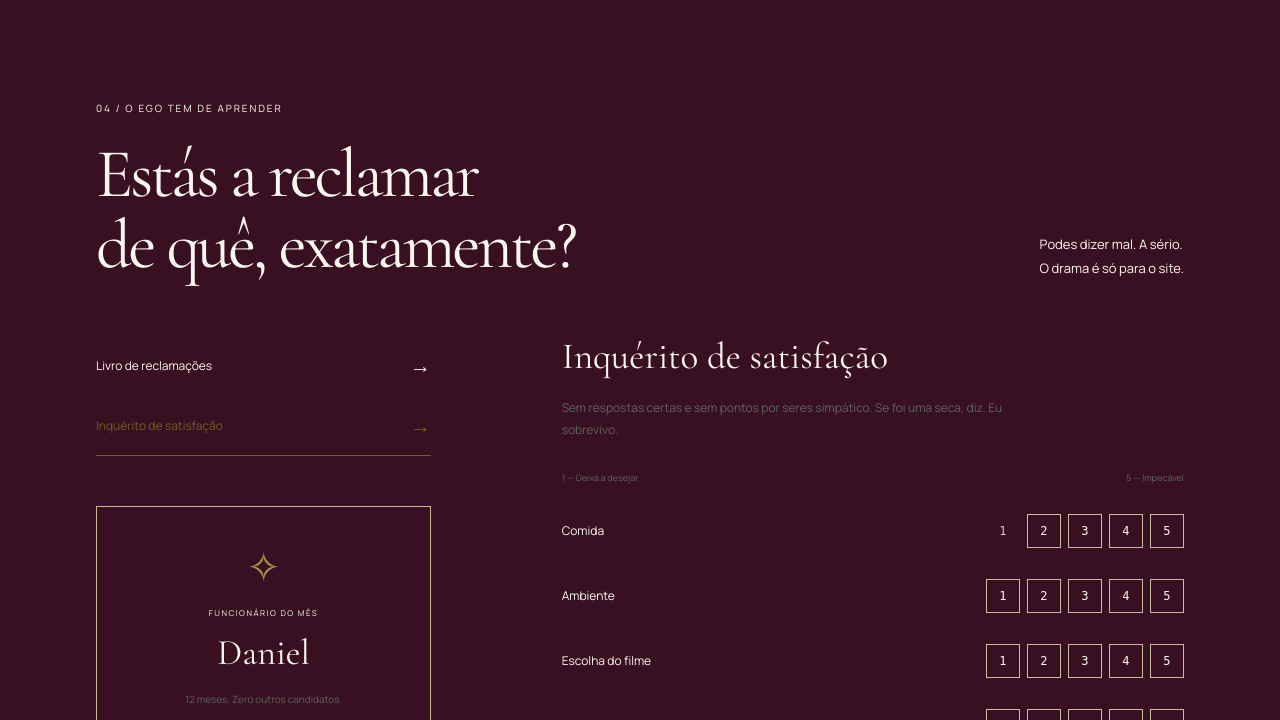
reservas e secretaria › aceita avaliações honestas de 1 em todas as categorias
Earlier steps of the test are not shown.
Click the radio button labelled "1" in the row of "Ambiente" at (1003, 596), box [986,579,1020,613]
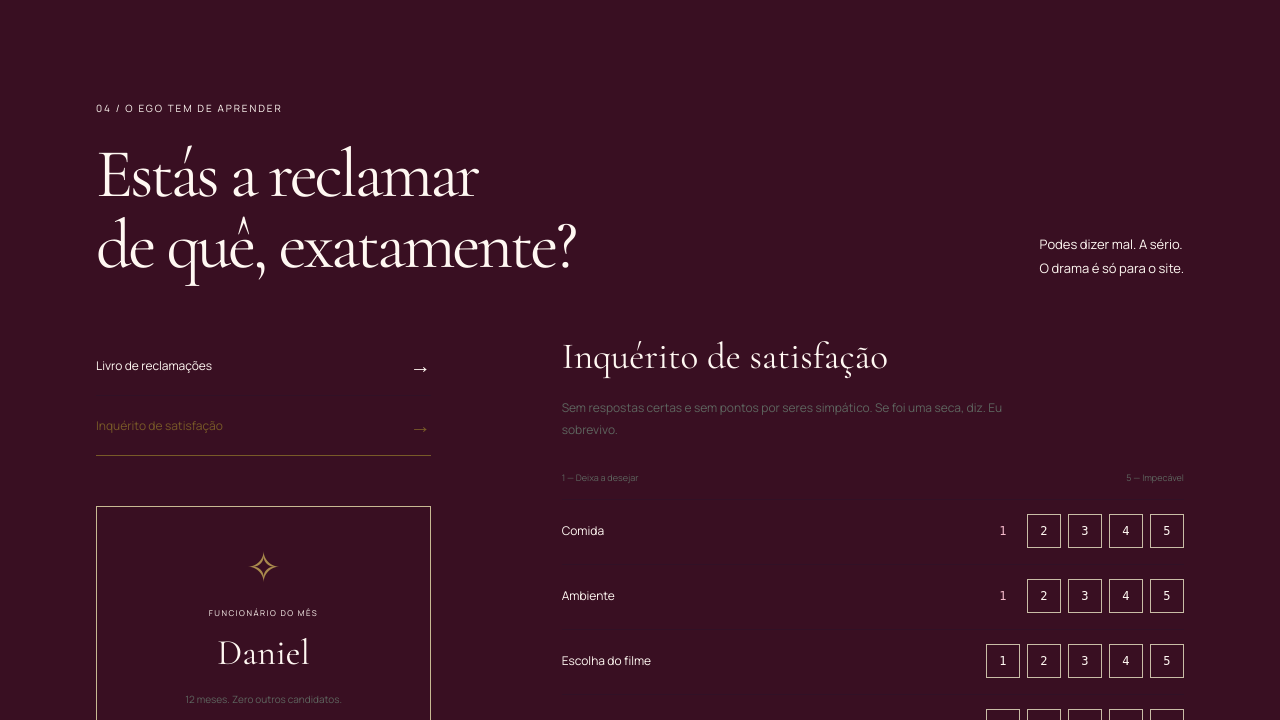
Click the radio button labelled "1" in the row of "Escolha do filme" at (1003, 661), box [986,644,1020,678]
(page scrolled)
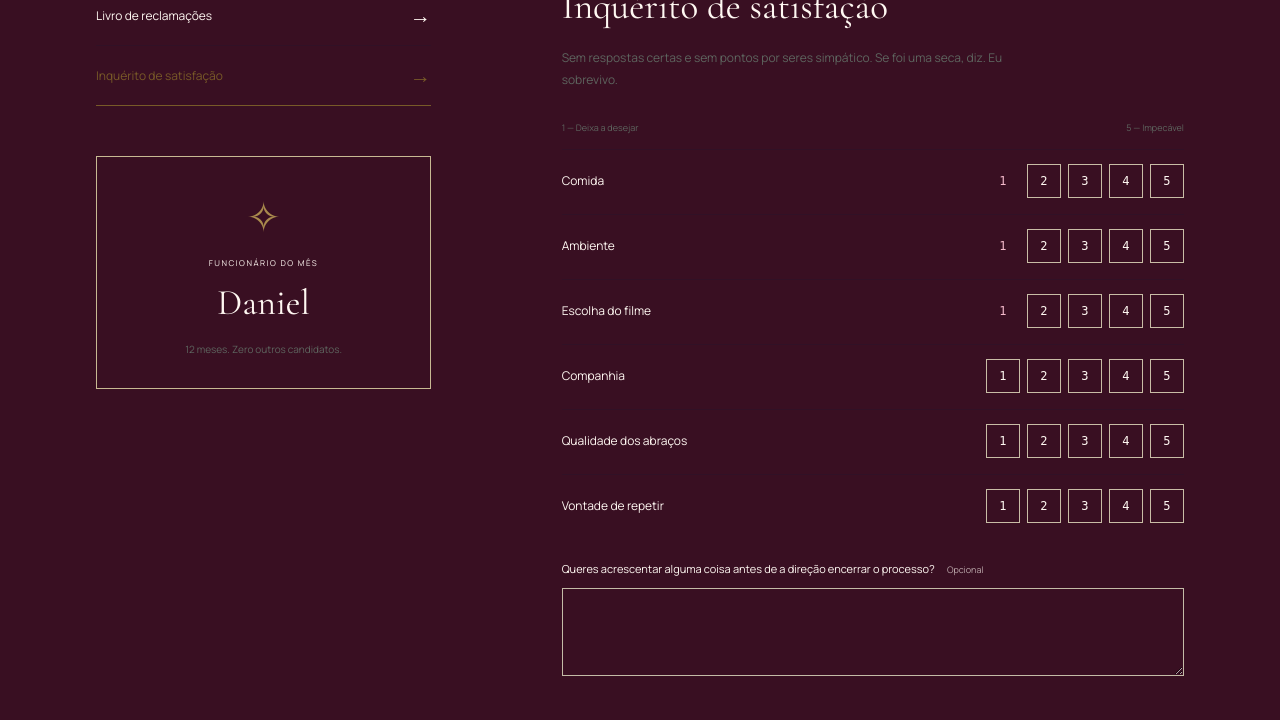
Click the radio button labelled "1" in the row of "Companhia" at (1003, 376), box [986,359,1020,393]
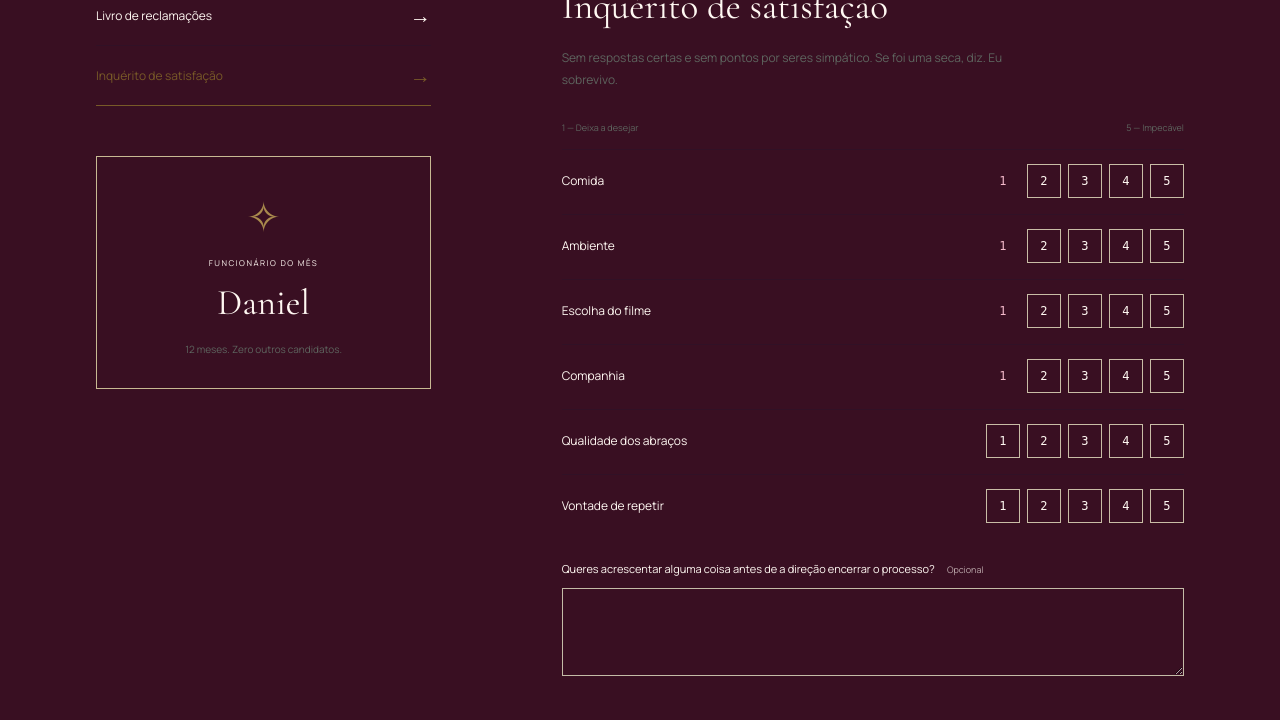
Click the radio button labelled "1" in the row of "Qualidade dos abraços" at (1003, 441), box [986,424,1020,458]
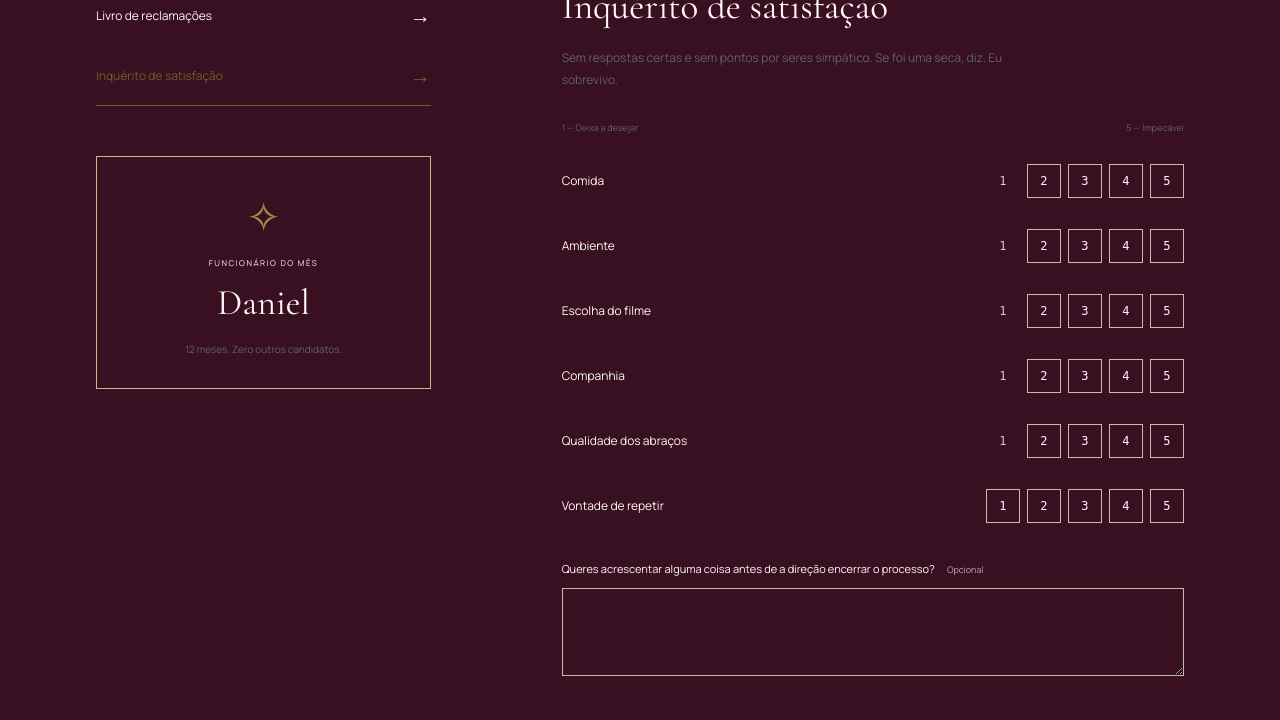
Click the radio button labelled "1" in the row of "Vontade de repetir" at (1003, 506), box [986,489,1020,523]
(page scrolled)
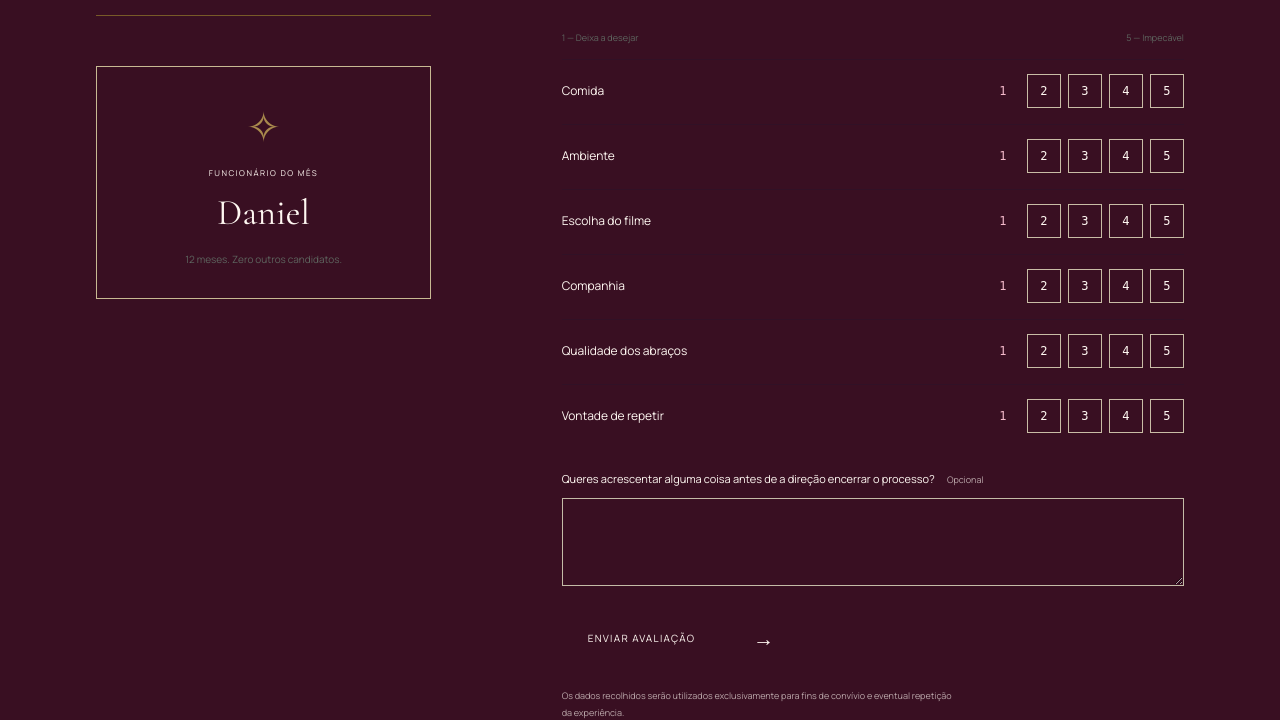
Submit the form named "Inquérito de satisfação", box [562,30,1184,719]
(page scrolled)
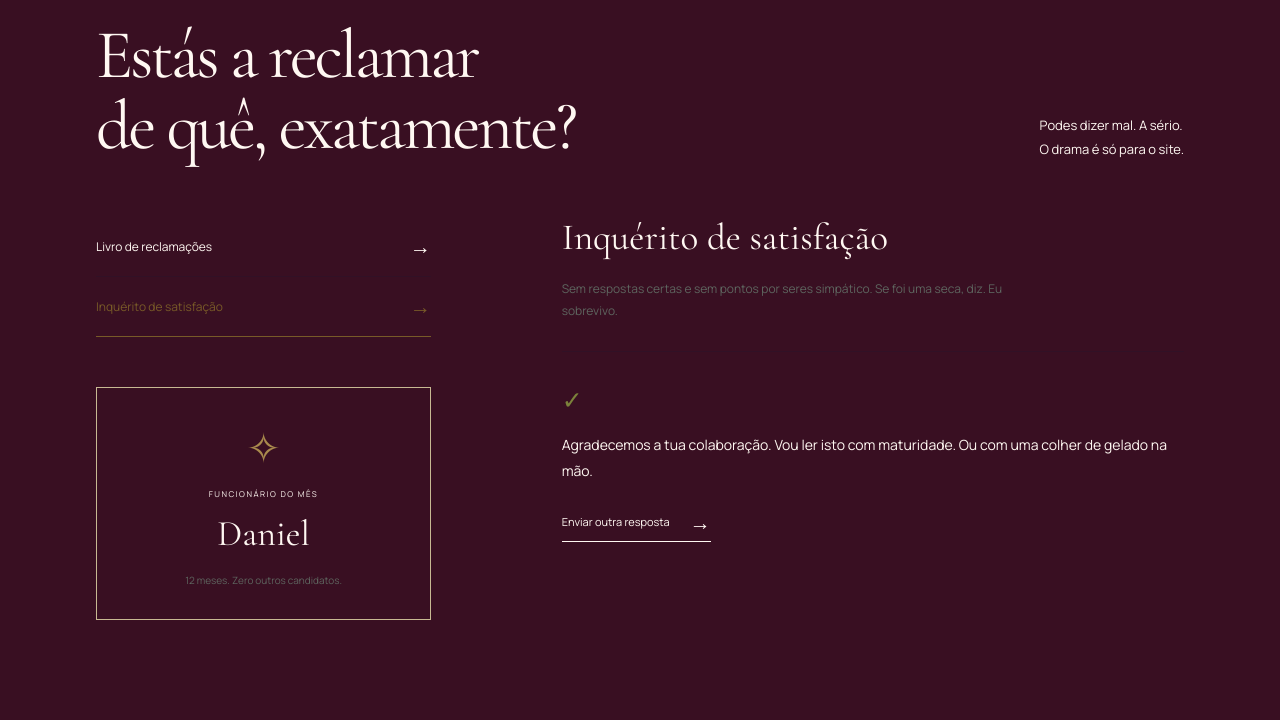
expect the message shows "Agradecemos a tua colaboração": met, box [562,435,1167,480]
